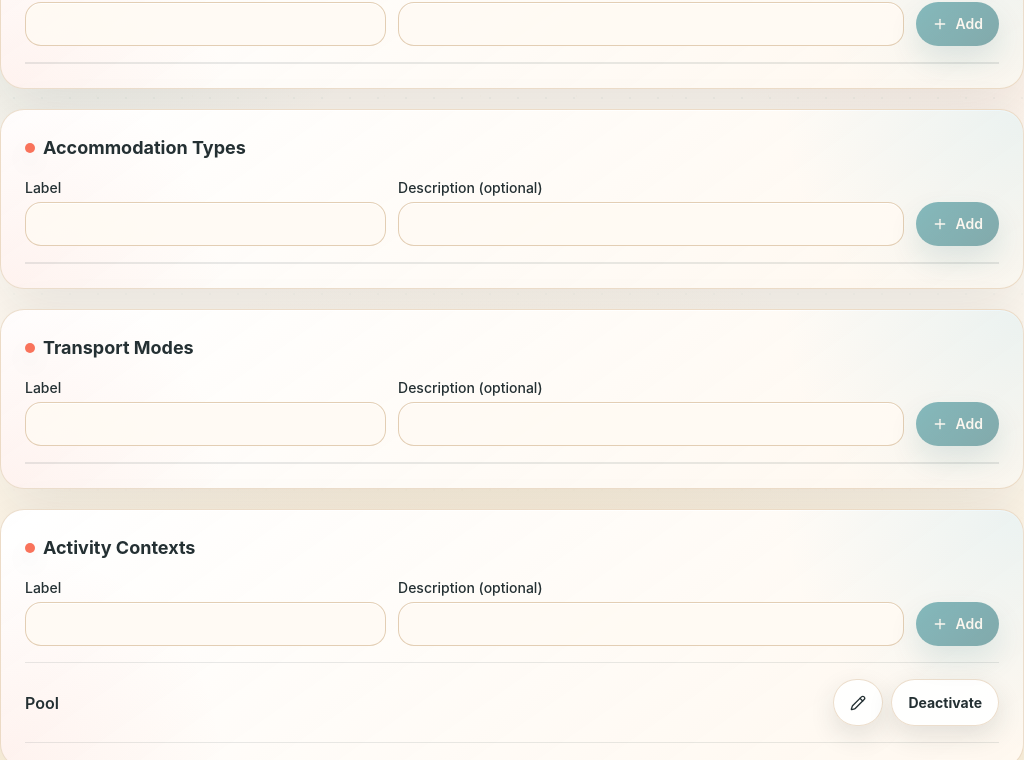
Test: ContextsSettingsScreen › renders four groups and creates a reusable context option
(page scrolled)
expect the heading "Accommodation Types" is shown: met, box [25,137,246,158]
expect the heading "Transport Modes" is shown: met, box [25,337,194,358]
Type "Museum day" into the field named "New activity label" at x=206, y=624, box [25,602,386,646]
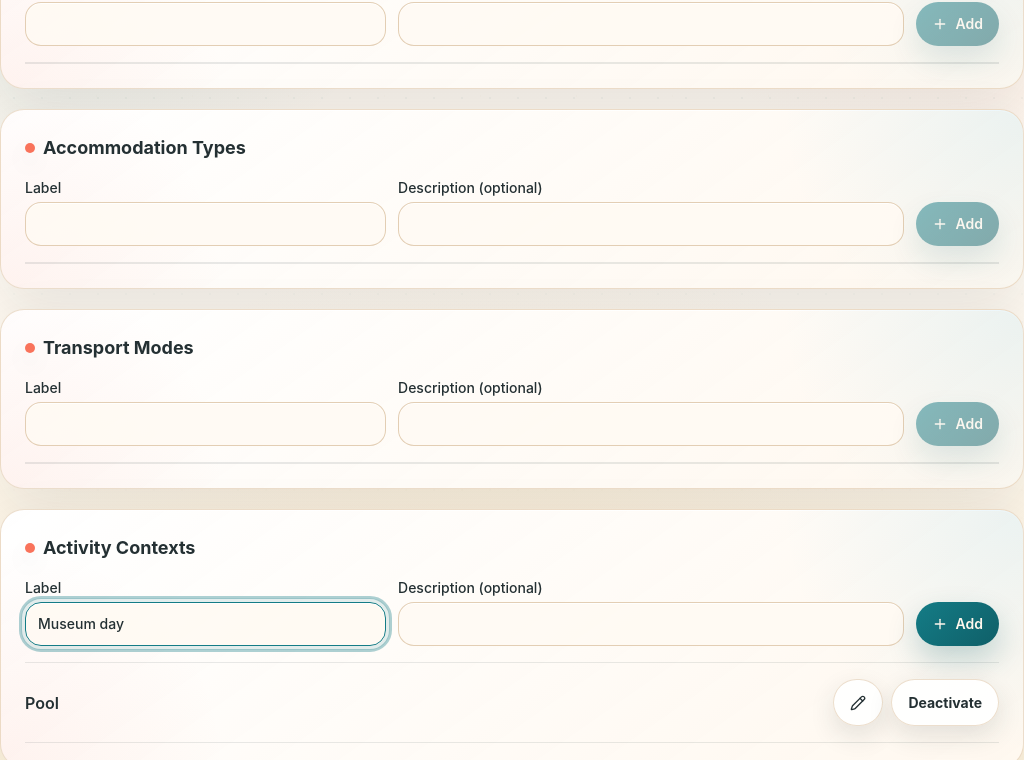
Click the 4th button "Add" at x=957, y=624, box [916,602,999,646]
(page scrolled)
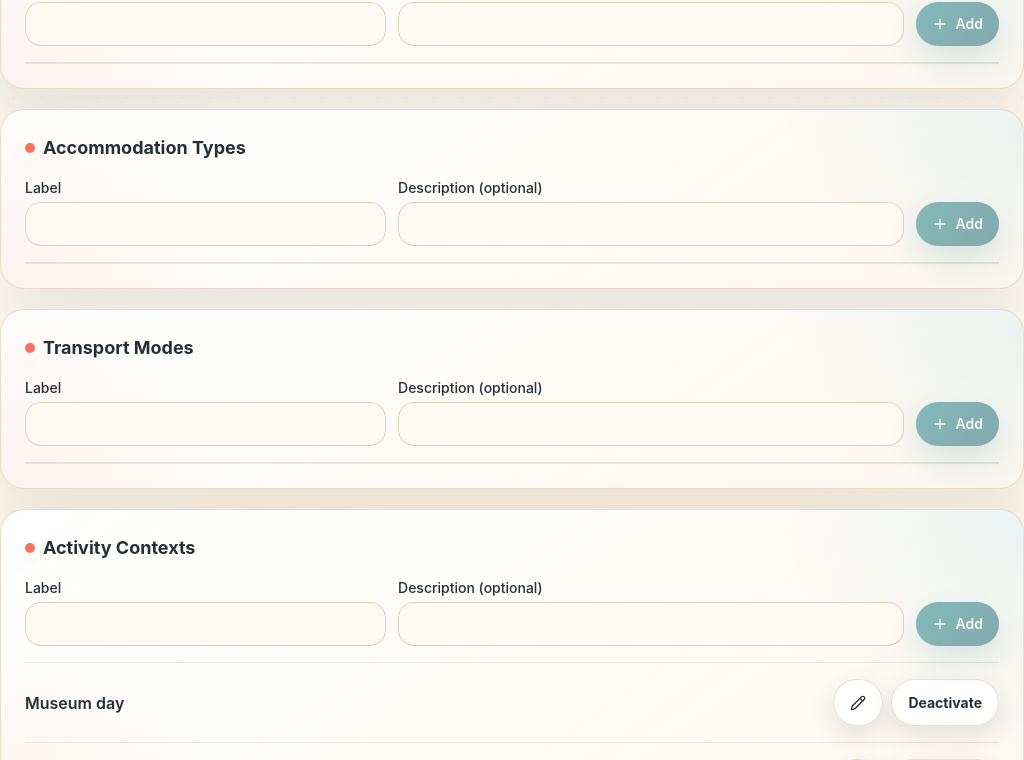
expect the text "Museum day" is shown: met, box [25,690,124,714]
